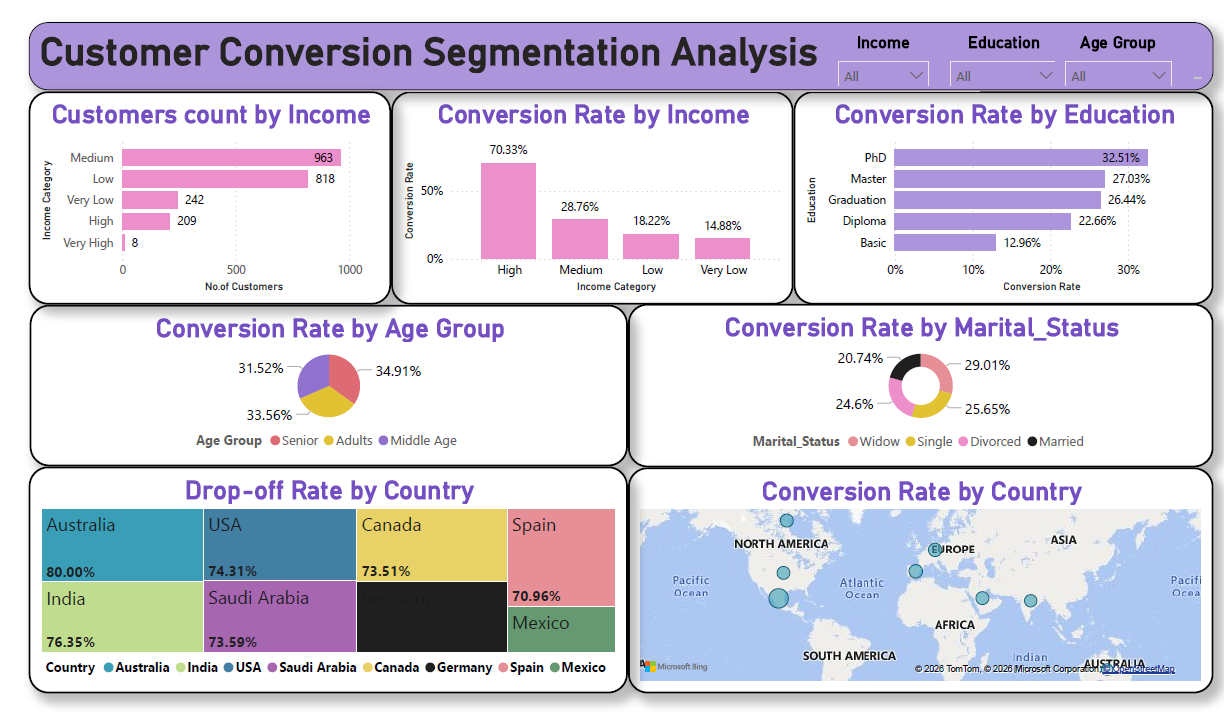

Layout of this report page (visuals, bound fields, positions):
{"tool":"powerbi","page":{"name":"Customer Conversion Segmentation ","canvas":[1280,720],"ordinal":2},"visuals":[{"type":"clusteredColumnChart","title":"Conversion Rate by Income ","fields":{"Category":["Dim_Customer.Income Category"],"Y":["DAX Measure.Conversion Rate"]},"box":[400.8,82.7,413.6,219.5],"z":0},{"type":"clusteredBarChart","fields":{"Y":["DAX Measure.Conversion Rate"],"Category":["Dim_Customer.Education"]},"box":[814.4,82.7,431.1,219.5],"z":1000},{"type":"donutChart","fields":{"Category":["Dim_Customer.Marital_Status"],"Y":["DAX Measure.Conversion Rate"]},"box":[644.2,300.6,601.3,168.6],"z":2000},{"type":"pieChart","fields":{"Category":["Dim_Customer.Age Group"],"Y":["DAX Measure.Conversion Rate"]},"box":[30.4,301.8,613.7,166.1],"z":3000},{"type":"textbox","box":[269.4,22.3,735.2,60.8],"z":4000},{"type":"textbox","title":" Customer Conversion Segmentation Analysis","box":[29.4,11.8,1215.7,70.6],"z":5000},{"type":"map","fields":{"Category":["Dim_Customer.Country"],"Size":["DAX Measure.Conversion Rate"]},"box":[644.2,469.2,601.3,232.2],"z":6000},{"type":"treemap","title":"Drop-off Rate by Country","fields":{"Group":["Dim_Customer.Country"],"Values":["DAX Measure.Drop off Rate"]},"box":[28.6,467.6,615.6,233.8],"z":7000},{"type":"slicer","title":"Education","fields":{"Values":["Dim_Customer.Education"]},"box":[965.4,23.1,130.8,53.8],"z":8000},{"type":"slicer","title":"Income","fields":{"Values":["Dim_Customer.Income Category"]},"box":[850,23.1,113.5,53.8],"z":9000},{"type":"slicer","title":"Age Group","fields":{"Values":["Dim_Customer.Age Group"]},"box":[1082.7,23.1,128.8,53.8],"z":10000},{"type":"barChart","title":"Customers count by Income","fields":{"Category":["Dim_Customer.Income Category"],"Y":["DAX Measure.No.of Customers"]},"box":[28.6,82.7,372.2,219.5],"z":11000}]}

Visuals, with their boxes in screenshot pixels (x1, y1, x2, y2):
"Conversion Rate by Income " clusteredColumnChart: (385, 87, 790, 302)
clusteredBarChart - DAX Measure.Conversion Rate x Dim_Customer.Education: (790, 87, 1211, 302)
donutChart - Dim_Customer.Marital_Status x DAX Measure.Conversion Rate: (623, 300, 1211, 465)
pieChart - Dim_Customer.Age Group x DAX Measure.Conversion Rate: (23, 301, 623, 464)
textbox: (257, 28, 976, 88)
" Customer Conversion Segmentation Analysis" textbox: (22, 18, 1211, 87)
map - Dim_Customer.Country x DAX Measure.Conversion Rate: (623, 465, 1211, 692)
"Drop-off Rate by Country" treemap: (22, 464, 623, 692)
"Education" slicer: (937, 29, 1065, 82)
"Income" slicer: (825, 29, 936, 82)
"Age Group" slicer: (1052, 29, 1178, 82)
"Customers count by Income" barChart: (22, 87, 385, 302)
